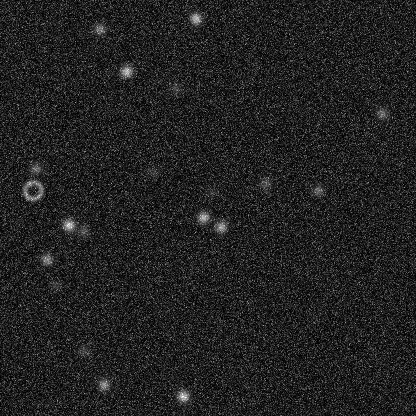Ring: (20, 178, 44, 202)
Spot: (257, 174, 273, 190), (195, 209, 211, 225), (212, 218, 228, 234), (95, 376, 111, 392), (145, 163, 161, 179), (60, 217, 76, 233), (309, 182, 325, 198), (168, 79, 184, 95), (75, 223, 91, 239), (27, 160, 43, 176), (38, 251, 54, 267), (174, 388, 190, 404), (187, 10, 203, 26), (75, 342, 91, 358), (118, 63, 134, 79), (47, 276, 63, 292), (202, 183, 218, 199), (91, 20, 107, 36), (373, 105, 389, 121)
